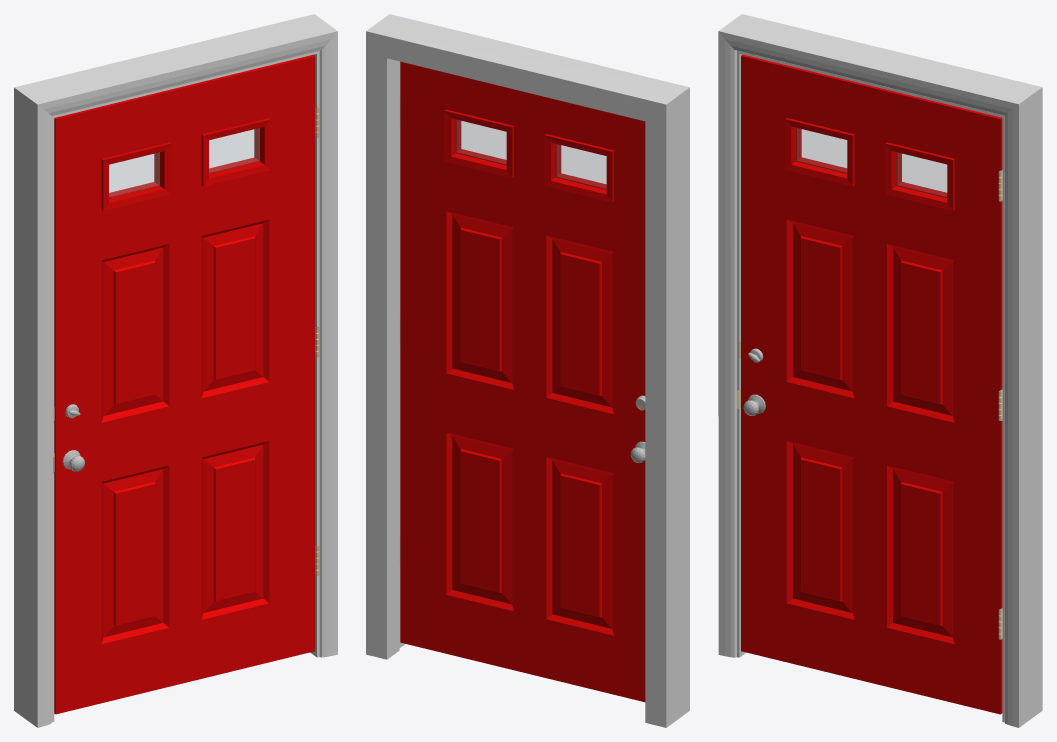
File: exterior-door-01.glb
3 views of the same model, side by side, from view 1: azimuth 30°, elevation 25°; view 2: azimuth 150°, elevation 25°; view 3: azimuth 330°, elevation 25° (orthographic).
Size of the model in its own units: 6.94 by 13.77 by 1.19.
